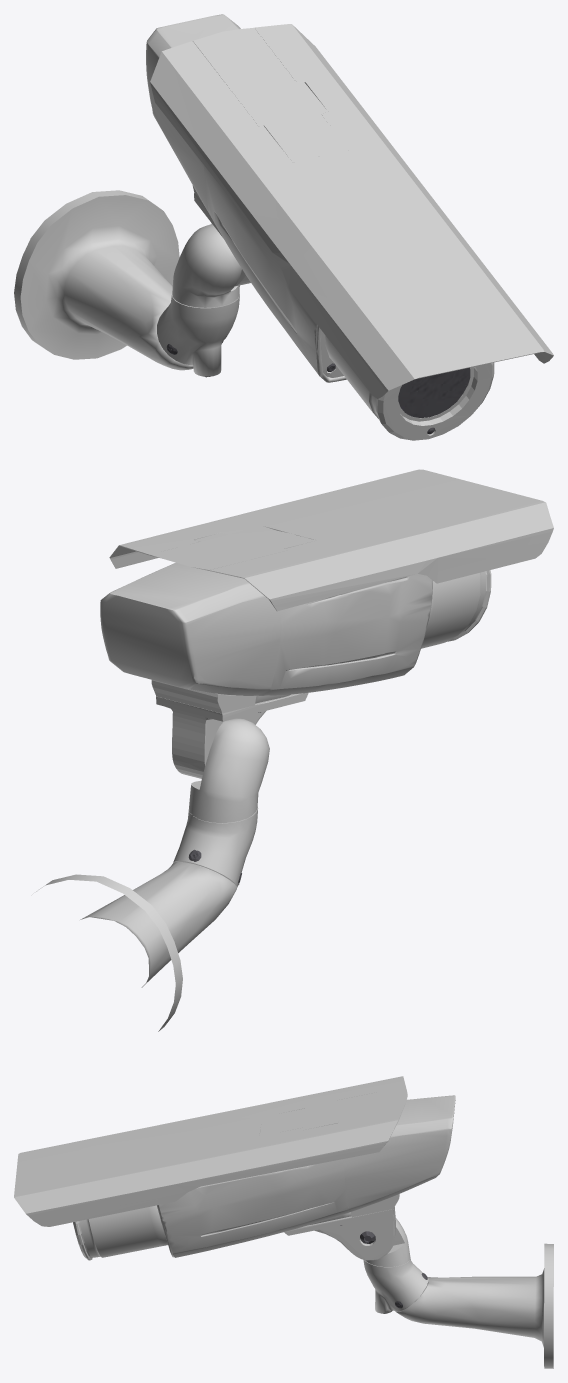
The model's file is camera.glb.
3 views of the same model, one above another, from view 1: azimuth 30°, elevation 25°; view 2: azimuth 150°, elevation 25°; view 3: azimuth 270°, elevation 25° (orthographic). The views are drawn at different scales.
Visible parts, largest first — view 1: CAM; view 2: CAM; view 3: CAM.
Boxes of the visible parts, bbox=[...] form: CAM: bbox=[14, 14, 553, 440]; CAM: bbox=[36, 469, 553, 1031]; CAM: bbox=[14, 1076, 553, 1368].
Bounding box in the file's own units: 0.0807 × 0.1642 × 0.2929.
1 material, 1 textured.
